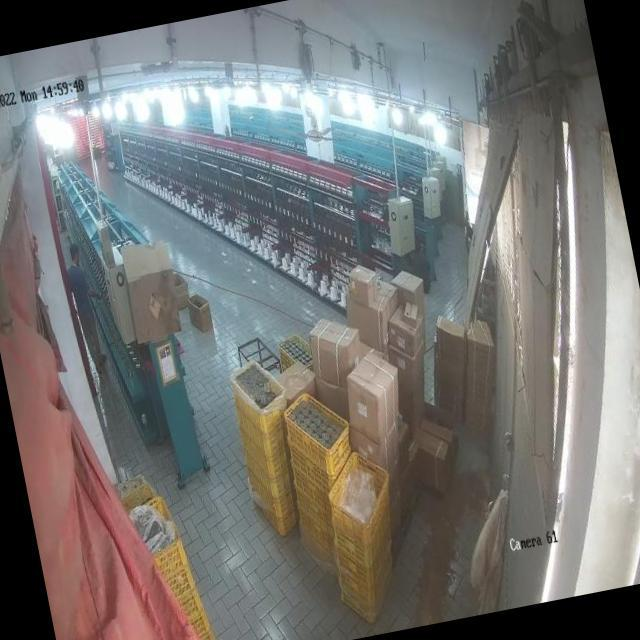person: (66, 240, 108, 360)
